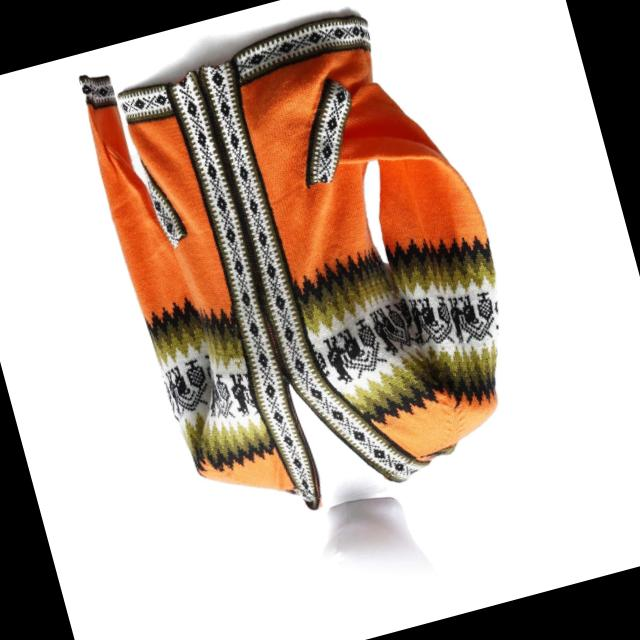Chompa: (73, 0, 545, 541)
